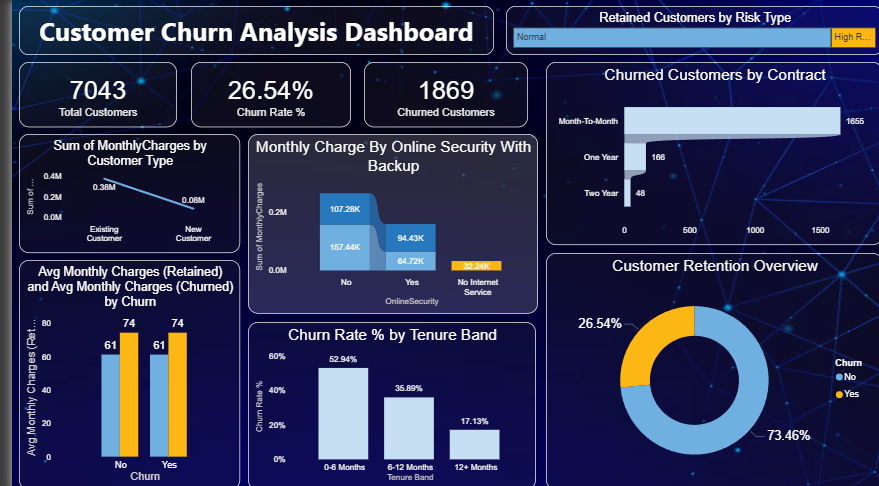

Layout of this report page (visuals, bound fields, positions):
{"tool":"powerbi","page":{"name":"Page 1","canvas":[1280,720],"ordinal":0},"visuals":[{"type":"textbox","box":[10.3,8.8,698,72],"z":0},{"type":"treemap","fields":{"Values":["Calculated Measure.Retained Customers"],"Group":["telco_churn_unclean.Risk Type"]},"box":[725.9,8.8,554,72],"z":1000},{"type":"card","fields":{"Values":["Calculated Measure.Total Customers"]},"box":[10.3,91.1,232.2,95.5],"z":2000},{"type":"card","fields":{"Values":["Calculated Measure.Churn Rate %"]},"box":[263,91.1,235.1,95.5],"z":3000},{"type":"card","fields":{"Values":["Calculated Measure.Churned Customers"]},"box":[517.2,91.1,241,95.5],"z":4000},{"type":"donutChart","title":"Customer Retention Overview","fields":{"Category":["telco_churn_unclean.Churn"],"Y":["Calculated Measure.Total Customers"]},"box":[784.7,371.8,495.2,348.2],"z":5000},{"type":"barChart","fields":{"Category":["telco_churn_unclean.Contract"],"Y":["Calculated Measure.Churned Customers"]},"box":[784.7,91.1,495.2,268.9],"z":6000},{"type":"columnChart","title":"Monthly Charge By Online Security With Backup","fields":{"Category":["telco_churn_unclean.OnlineSecurity"],"Y":["Sum(telco_churn_unclean.MonthlyCharges)"],"Series":["telco_churn_unclean.OnlineBackup"]},"box":[346.8,196.9,426.1,264.5],"z":7000},{"type":"columnChart","fields":{"Category":["telco_churn_unclean.Tenure Band"],"Y":["Calculated Measure.Churn Rate %"]},"box":[346.8,473.1,423.2,246.9],"z":7001},{"type":"lineChart","fields":{"Y":["Sum(telco_churn_unclean.MonthlyCharges)"],"Category":["telco_churn_unclean.Customer Type"]},"box":[10.3,196.9,324.7,174.9],"z":7002},{"type":"clusteredColumnChart","fields":{"Y":["Calculated Measure.Avg Monthly Charges (Retained)","Calculated Measure.Avg Monthly Charges (Churned)"],"Category":["telco_churn_unclean.Churn"]},"box":[10.3,382,324.7,338],"z":7003}]}

Visuals, with their boxes in screenshot pixels (x1, y1, x2, y2), scaled from the page's 1280x720 canvas onto the 879x486 screenshot:
textbox: box(7, 6, 486, 55)
treemap - Calculated Measure.Retained Customers x telco_churn_unclean.Risk Type: box(498, 6, 878, 55)
card - Calculated Measure.Total Customers: box(7, 61, 167, 126)
card - Calculated Measure.Churn Rate %: box(181, 61, 342, 126)
card - Calculated Measure.Churned Customers: box(355, 61, 521, 126)
"Customer Retention Overview" donutChart: box(539, 251, 878, 485)
barChart - telco_churn_unclean.Contract x Calculated Measure.Churned Customers: box(539, 61, 878, 243)
"Monthly Charge By Online Security With Backup" columnChart: box(238, 133, 531, 311)
columnChart - telco_churn_unclean.Tenure Band x Calculated Measure.Churn Rate %: box(238, 319, 529, 485)
lineChart - Sum(telco_churn_unclean.MonthlyCharges) x telco_churn_unclean.Customer Type: box(7, 133, 230, 251)
clusteredColumnChart - Calculated Measure.Avg Monthly Charges (Retained) x Calculated Measure.Avg Monthly Charges (Churned): box(7, 258, 230, 485)
